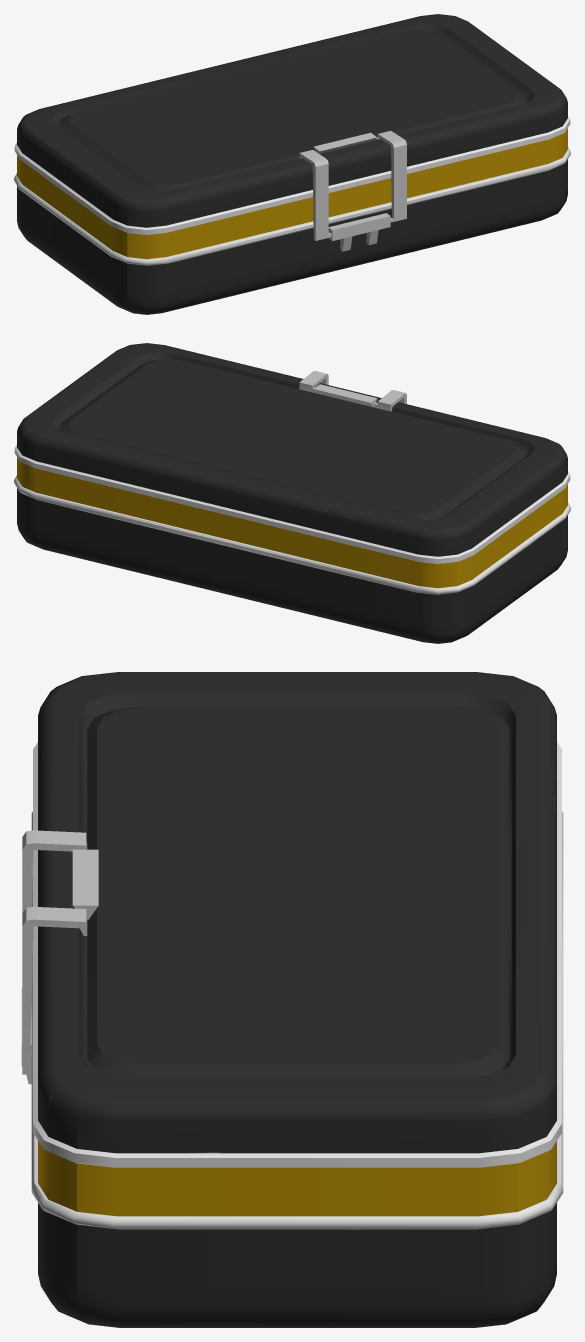
Rendered from pencase.fbx.
The picture shows the model from 3 angles, top to bottom: view 1: azimuth 30°, elevation 25°; view 2: azimuth 150°, elevation 25°; view 3: azimuth 270°, elevation 25°; orthographic projection. The views are drawn at different scales.
Parts seen in each view (by area): view 1: polySurface1; view 2: polySurface1; view 3: polySurface1.
Part boxes in pixels (left/top/right/bottom): polySurface1: left=14, top=14, right=570, bottom=314; polySurface1: left=14, top=343, right=570, bottom=643; polySurface1: left=21, top=672, right=563, bottom=1327.
Size of the model in its own units: 797 by 205 by 411.
Materials: 1 (1 with a texture image).
